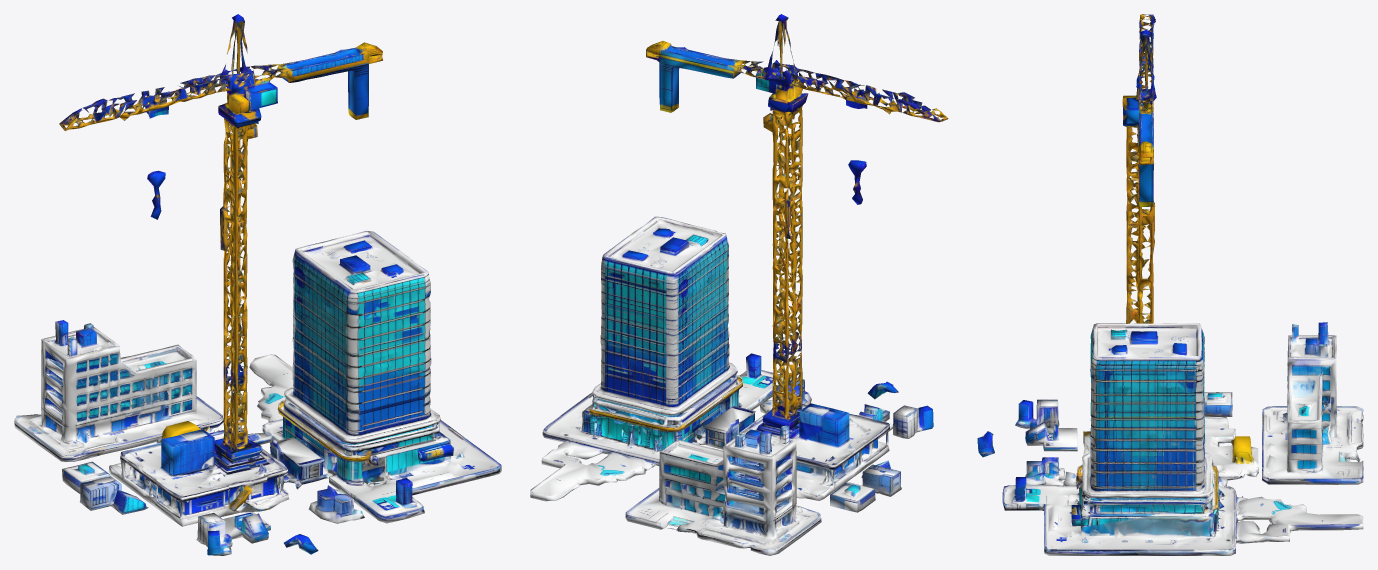
The model's file is siege.glb.
3 views of the same model, side by side, from view 1: azimuth 30°, elevation 25°; view 2: azimuth 150°, elevation 25°; view 3: azimuth 270°, elevation 25° (orthographic). The views are drawn at different scales.
Parts seen in each view (by area): view 1: Mesh_0; view 2: Mesh_0; view 3: Mesh_0.
Part boxes in pixels (x1=…): Mesh_0: x1=14, y1=14, x2=501, y2=555; Mesh_0: x1=530, y1=14, x2=948, y2=555; Mesh_0: x1=977, y1=14, x2=1363, y2=555.
Bounding box in the file's own units: 1.65 × 1.91 × 1.55.
1 material, 1 textured.
